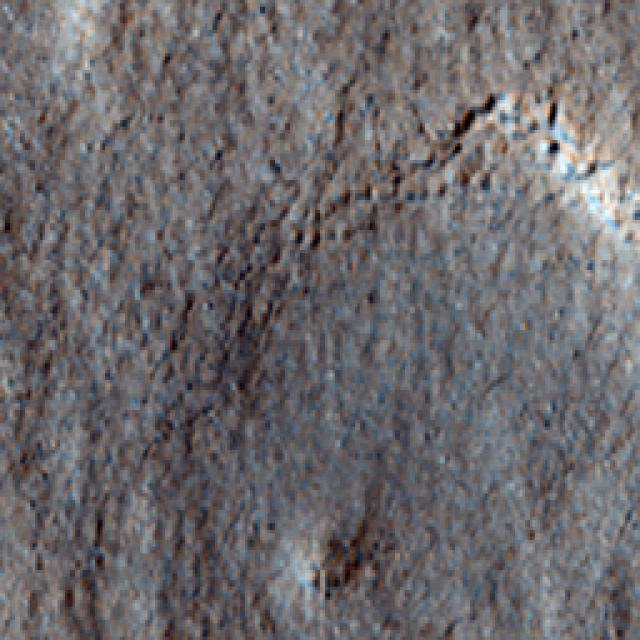Crater: (122, 16, 639, 640), (0, 0, 135, 213)
